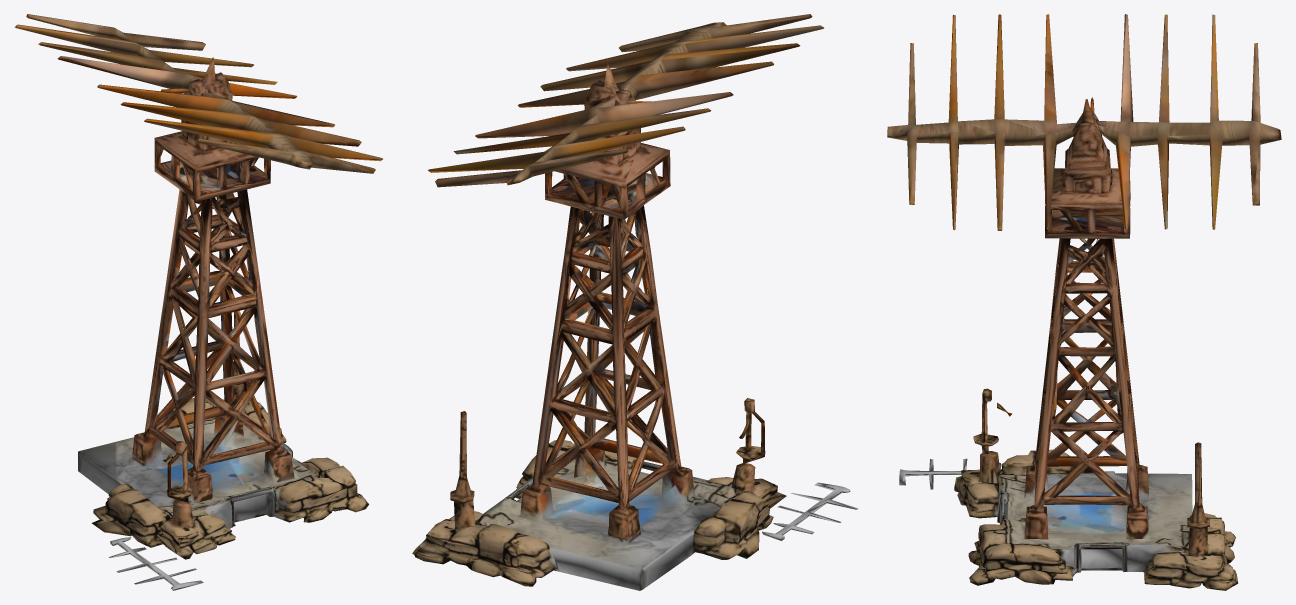
File: radio+tower+3d+model.fbx
3 renders of one model, left to right at view 1: azimuth 30°, elevation 25°; view 2: azimuth 150°, elevation 25°; view 3: azimuth 270°, elevation 25°, orthographic. The views are drawn at different scales.
Visible parts, largest first — view 1: tripo_node_b6902b6d; view 2: tripo_node_b6902b6d; view 3: tripo_node_b6902b6d.
Boxes of the visible parts, x1,y1,x2,y2 form: tripo_node_b6902b6d: [14, 14, 382, 590]; tripo_node_b6902b6d: [412, 14, 858, 590]; tripo_node_b6902b6d: [887, 14, 1281, 590].
Size of the model in its own units: 65.01 by 105 by 81.64.
